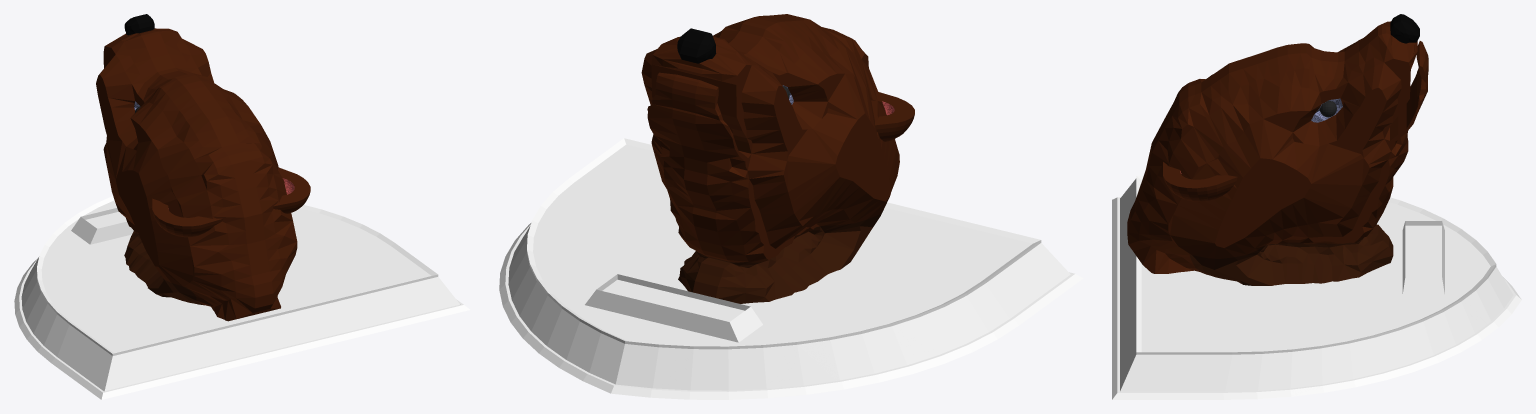
3 views of the same model, side by side, from view 1: azimuth 30°, elevation 25°; view 2: azimuth 150°, elevation 25°; view 3: azimuth 270°, elevation 25° (orthographic). The views are drawn at different scales.
Visible parts, largest first — view 1: bear head wall plaque; view 2: bear head wall plaque; view 3: bear head wall plaque.
Part boxes in pixels (x1,y1,x2,y2): bear head wall plaque: (14, 14, 469, 399); bear head wall plaque: (499, 14, 1083, 399); bear head wall plaque: (1112, 14, 1521, 399).
Size of the model in its own units: 35.04 by 22.42 by 30.33.
